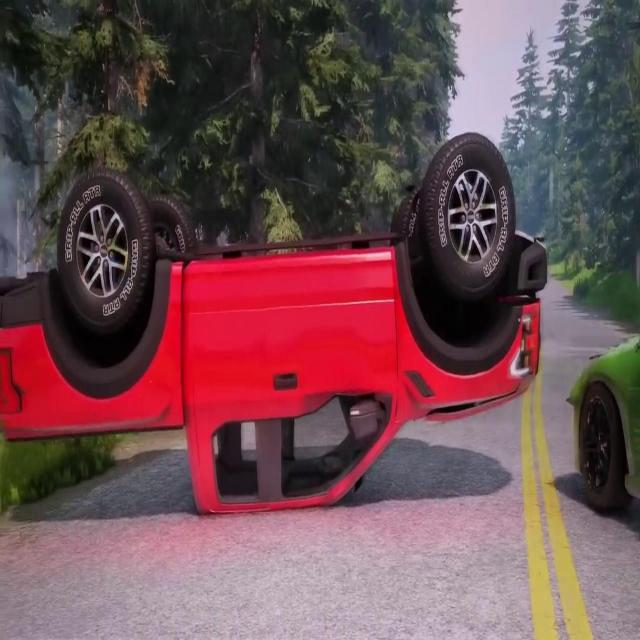severe: (0, 127, 552, 529)
